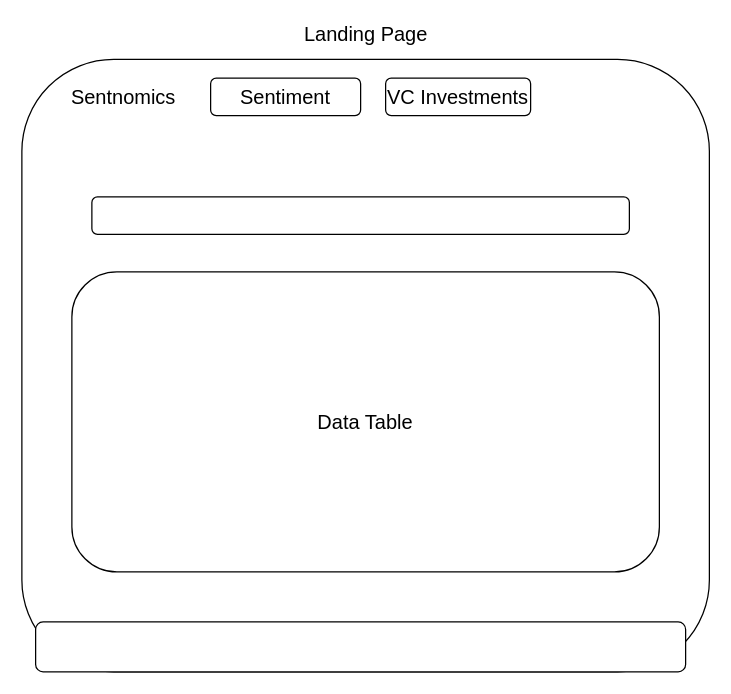
This 731x694 diagram has some shape labels left out. The centre of each missing label's shape, as x and y in pixels:
"Footer" belongs at [360,646].
"Ticker Picker" belongs at [360,215].
